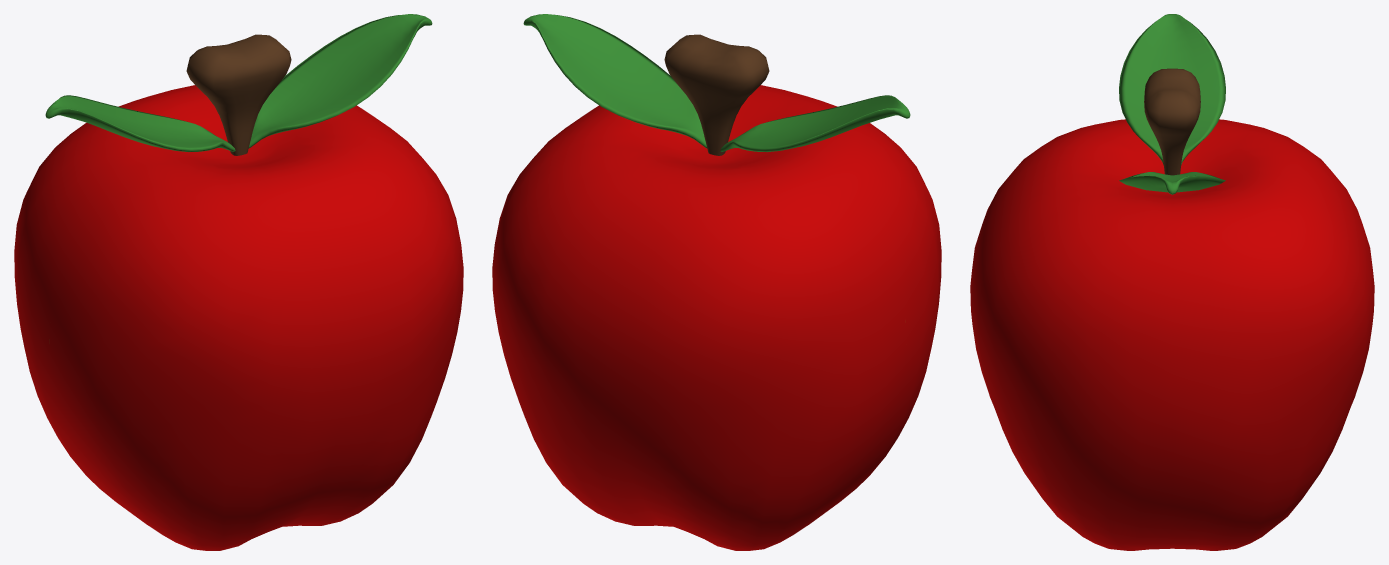
Rendered from apple.fbx.
3 renders of one model, left to right at view 1: azimuth 30°, elevation 25°; view 2: azimuth 150°, elevation 25°; view 3: azimuth 270°, elevation 25°, orthographic. The views are drawn at different scales.
Parts seen in each view (by area): view 1: apple; view 2: apple; view 3: apple.
Boxes of the visible parts, x1,y1,x2,y2 form: apple: [14, 14, 463, 550]; apple: [492, 14, 941, 550]; apple: [970, 14, 1374, 550].
Size of the model in its own units: 165 by 193 by 160.
